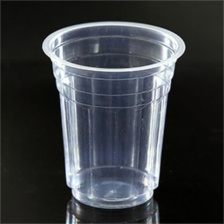glass: (37, 16, 189, 218)
